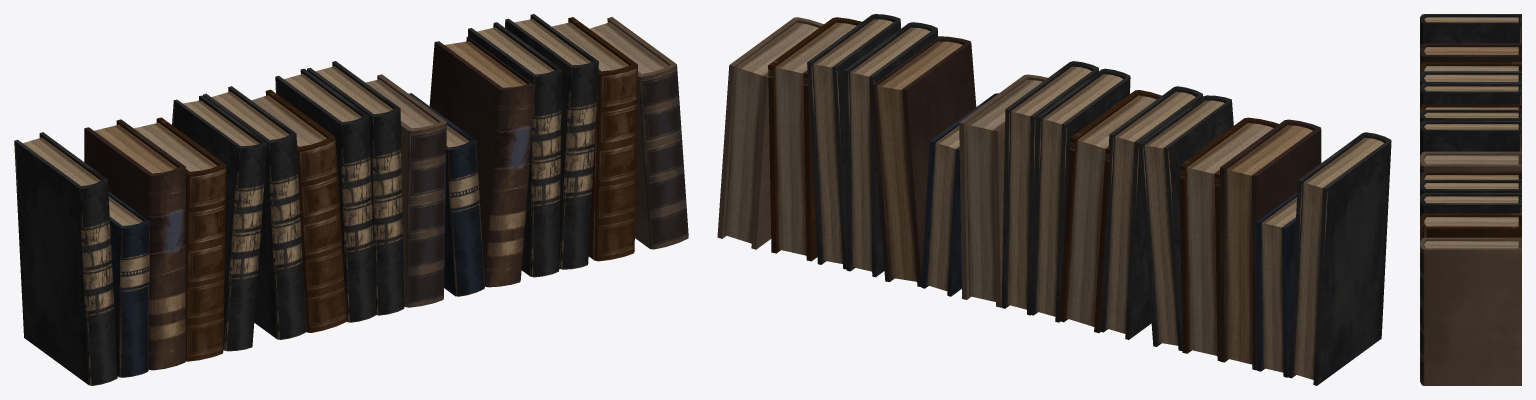
The model's file is hand_painted_old_books_geometry_nodes.gltf.
3 renders of one model, left to right at view 1: azimuth 30°, elevation 25°; view 2: azimuth 150°, elevation 25°; view 3: azimuth 270°, elevation 25°, orthographic. The views are drawn at different scales.
Visible parts, largest first — view 1: books_0; view 2: books_0; view 3: books_0.
Boxes of the visible parts, box(x1,y1,x2,y2) form: books_0: box(14, 14, 688, 385); books_0: box(717, 14, 1391, 385); books_0: box(1420, 14, 1521, 385).
Bounding box in the file's own units: 1.32 × 0.4191 × 0.2546.
Materials: 5 (5 with a texture image).
